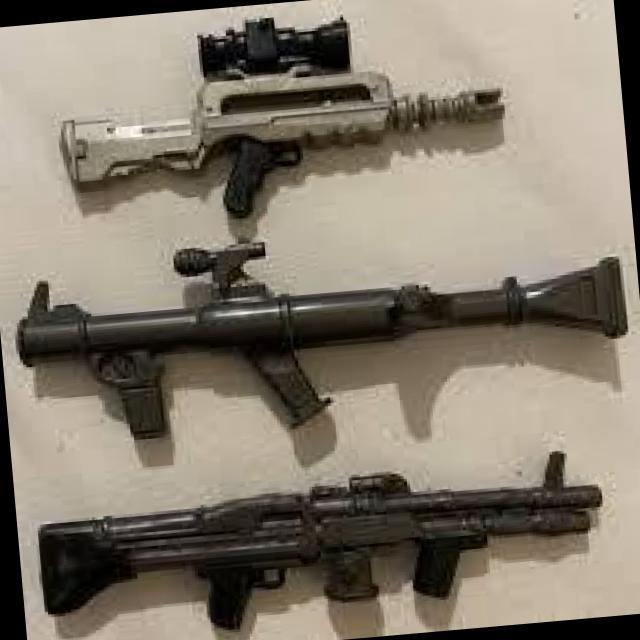rocket: (11, 223, 631, 440)
